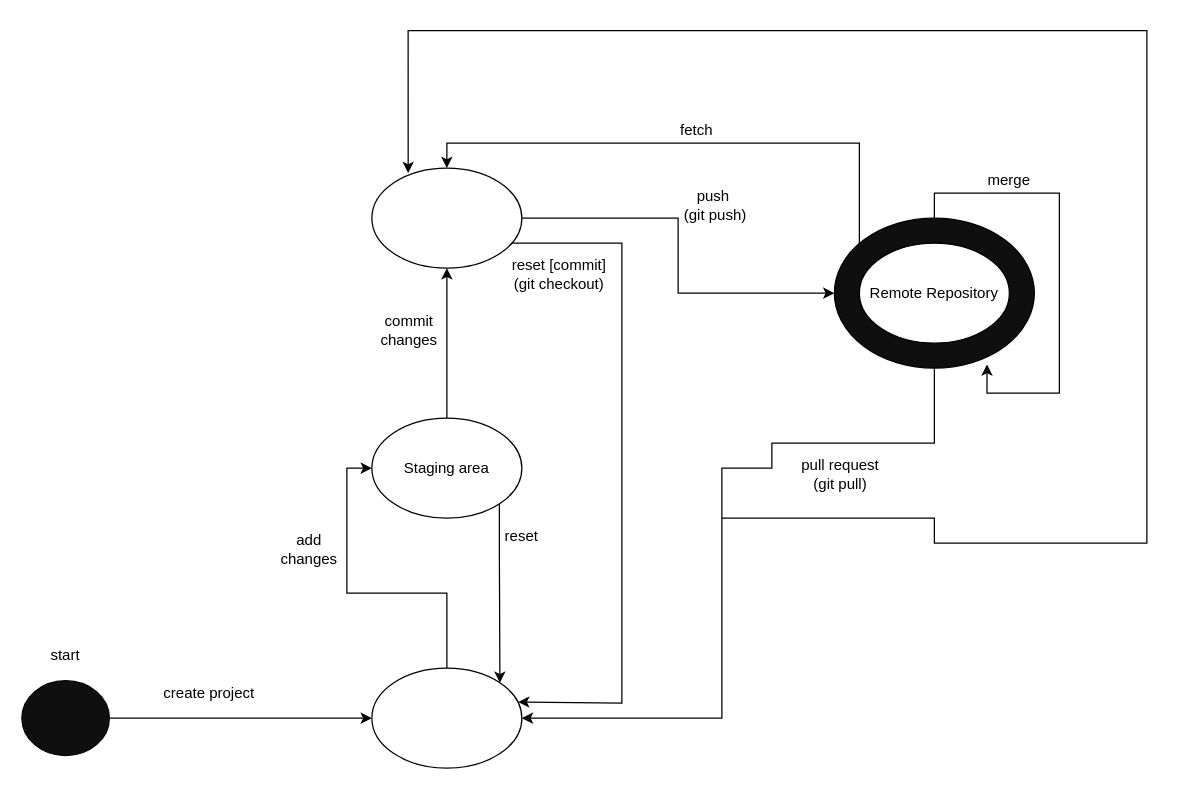
The diagram is 1179 pixels wide and 790 high, and some of its shapes have lost their labels. Each missing label, with the centre of its shape:
"Local repository" belongs at [446,217].
"Working directory" belongs at [446,717].
